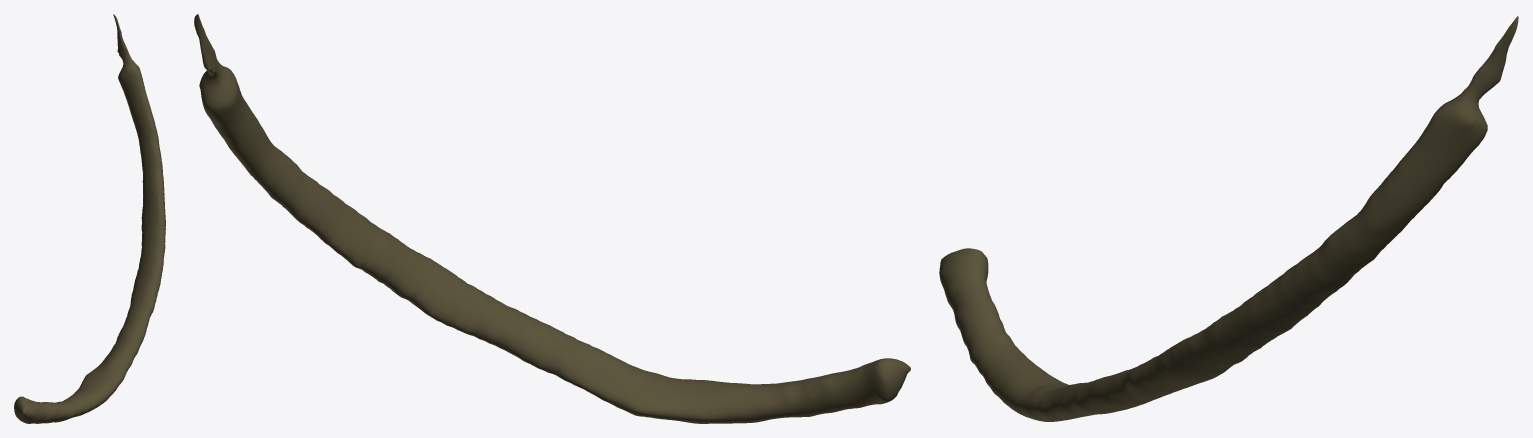
Rendered from segmentations_rib_right_10.obj.
The picture shows the model from 3 angles, left to right: view 1: azimuth 30°, elevation 25°; view 2: azimuth 150°, elevation 25°; view 3: azimuth 270°, elevation 25°; orthographic projection. The views are drawn at different scales.
Parts seen in each view (by area): view 1: grp1; view 2: grp1; view 3: grp1.
Boxes of the visible parts, box(x1,y1,x2,y2) form: grp1: box(14, 14, 165, 423); grp1: box(194, 14, 910, 423); grp1: box(939, 16, 1518, 421).
Bounding box in the file's own units: 76.07 × 79.18 × 77.51.
